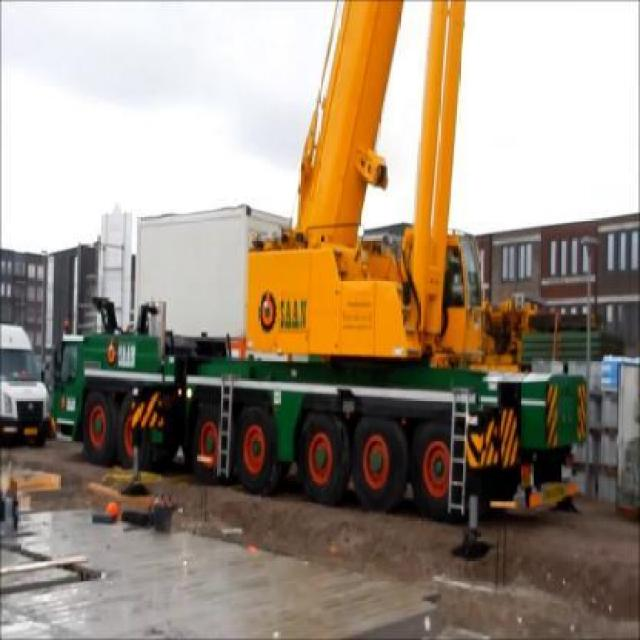Mobile Crane: (53, 0, 589, 528)
